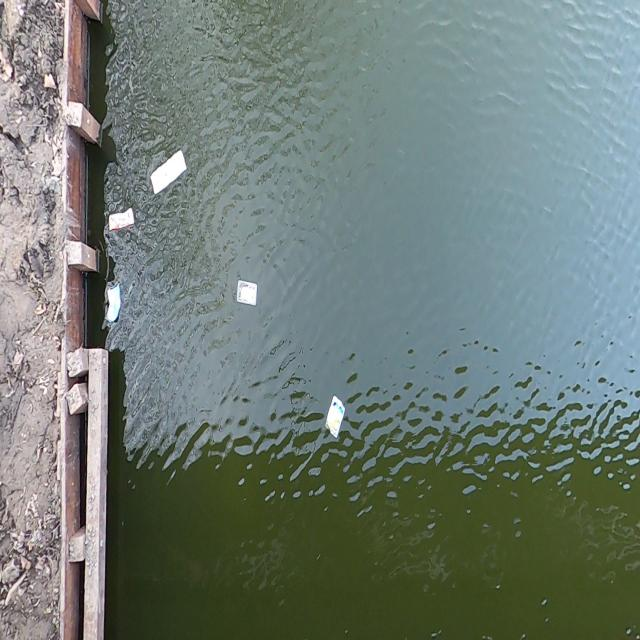Autre plastique: (322, 391, 349, 446), (233, 270, 260, 314)
Non plastique: (99, 274, 128, 334)
